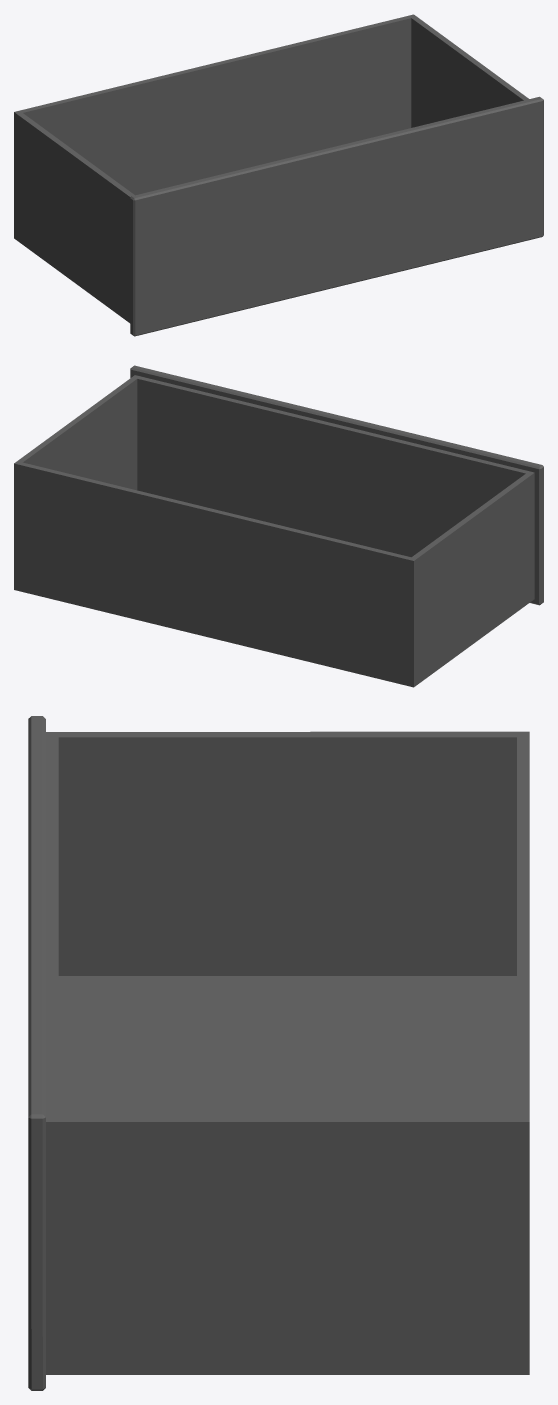
Rendered from Desk_323_1_DrawerMesh_01.obj.
3 views of the same model, one above another, from view 1: azimuth 30°, elevation 25°; view 2: azimuth 150°, elevation 25°; view 3: azimuth 270°, elevation 25° (orthographic). The views are drawn at different scales.
Size of the model in its own units: 0.6326 by 0.2033 by 0.3343.
